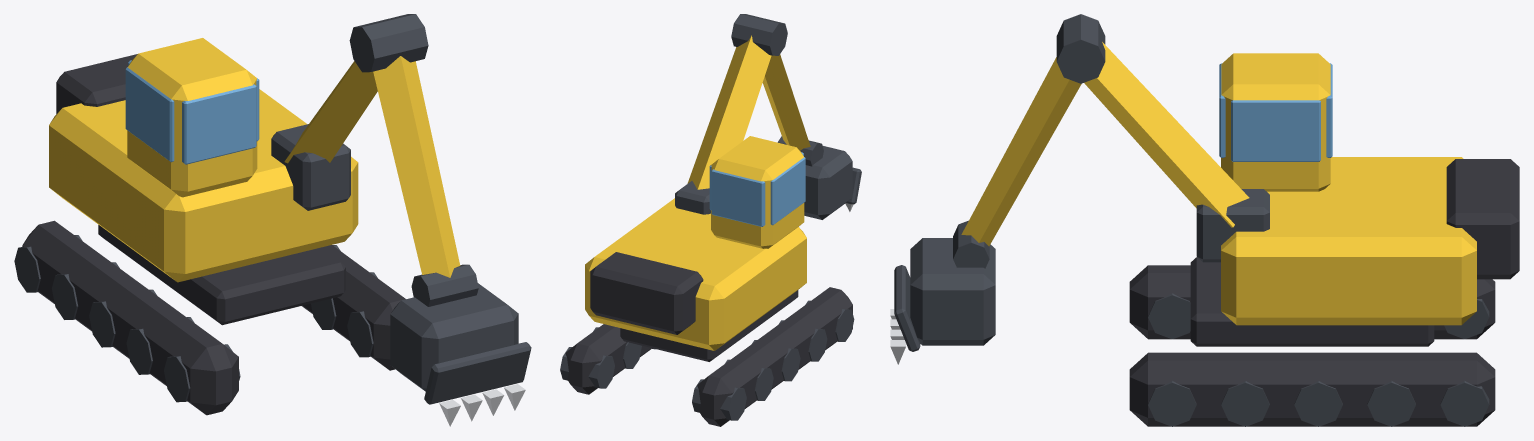
The model's file is Excavator.fbx.
3 views of the same model, side by side, from view 1: azimuth 30°, elevation 25°; view 2: azimuth 150°, elevation 25°; view 3: azimuth 270°, elevation 25° (orthographic). The views are drawn at different scales.
Visible parts, largest first — view 1: Excavator_Cab, Excavator; view 2: Excavator_Cab, Excavator; view 3: Excavator_Cab, Excavator.
Boxes of the visible parts, bbox=[...] form: Excavator_Cab: bbox=[49, 14, 531, 426]; Excavator: bbox=[14, 220, 405, 415]; Excavator_Cab: bbox=[585, 14, 861, 350]; Excavator: bbox=[560, 287, 854, 426]; Excavator_Cab: bbox=[890, 14, 1519, 364]; Excavator: bbox=[1129, 257, 1495, 426].
Size of the model in its own units: 4.36 by 6.8 by 10.33.
Materials: 1 (1 with a texture image).
